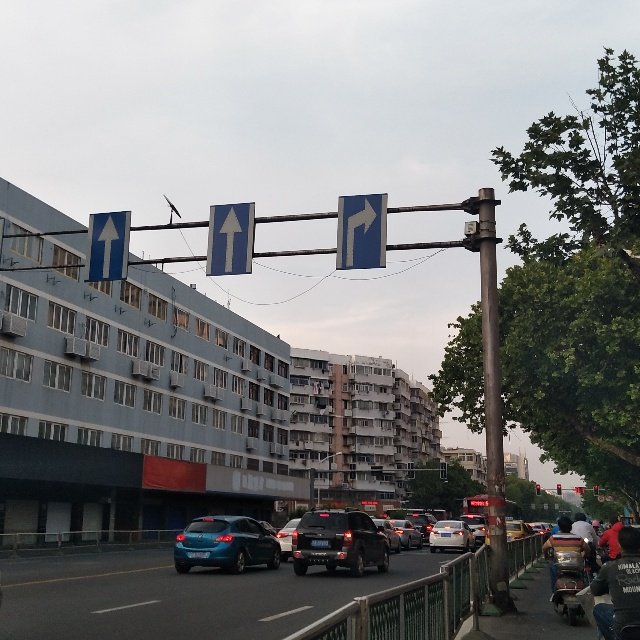right: (341, 198, 379, 266)
straight: (212, 205, 249, 273), (94, 212, 124, 277)
